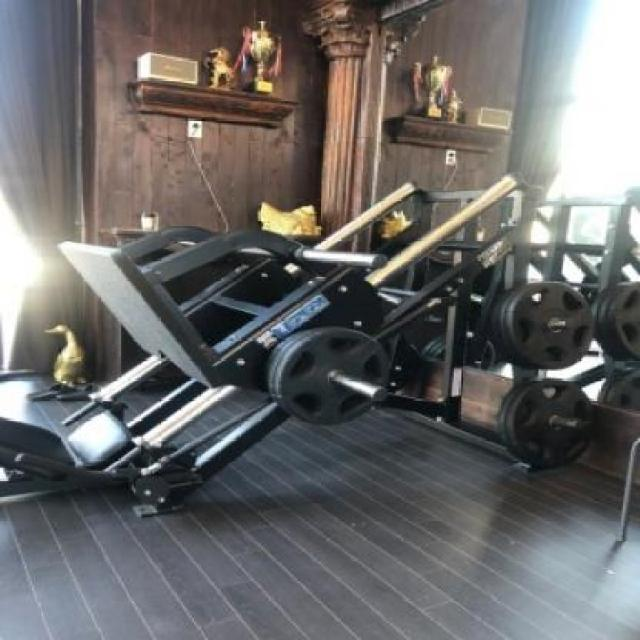leg press: (3, 143, 640, 542)
